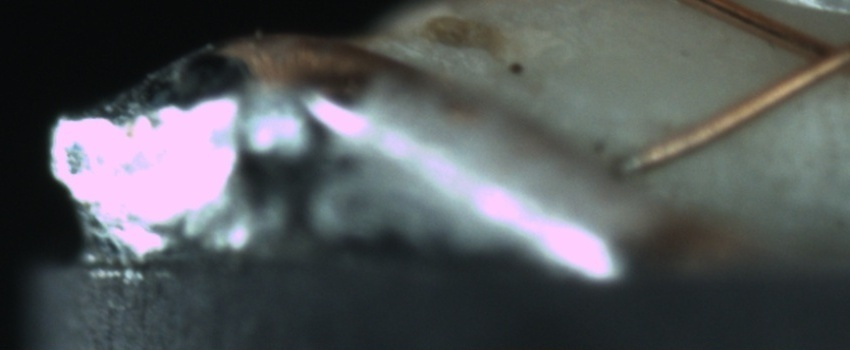CL: (773, 19, 849, 94)
